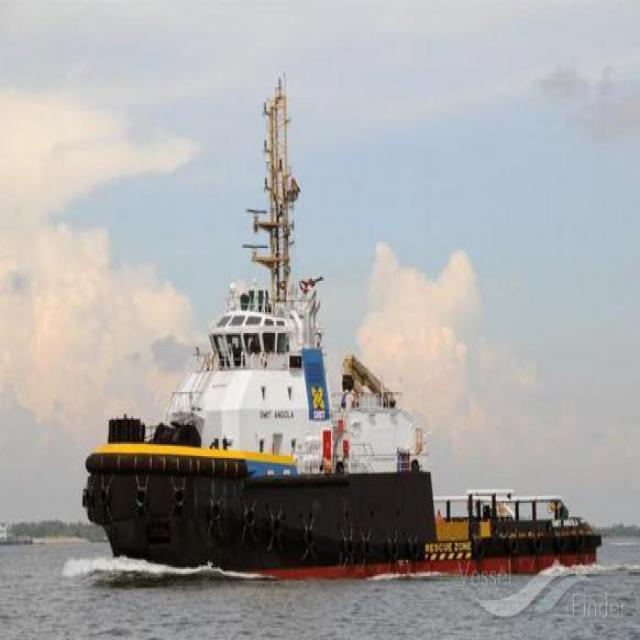OCR: (256, 400, 296, 424)
